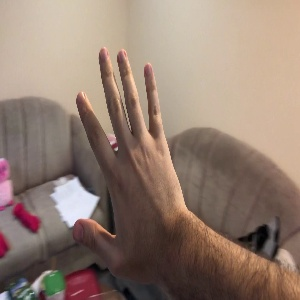hand: (73, 47, 186, 272)
